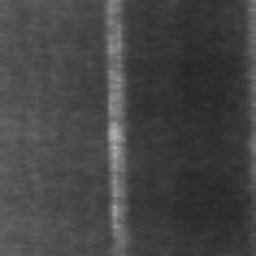Bright scratch: (105, 0, 128, 256)
